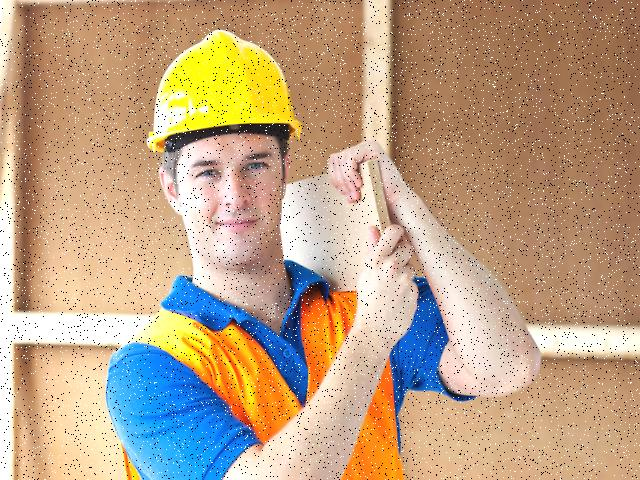Helmet: (143, 23, 308, 164)
